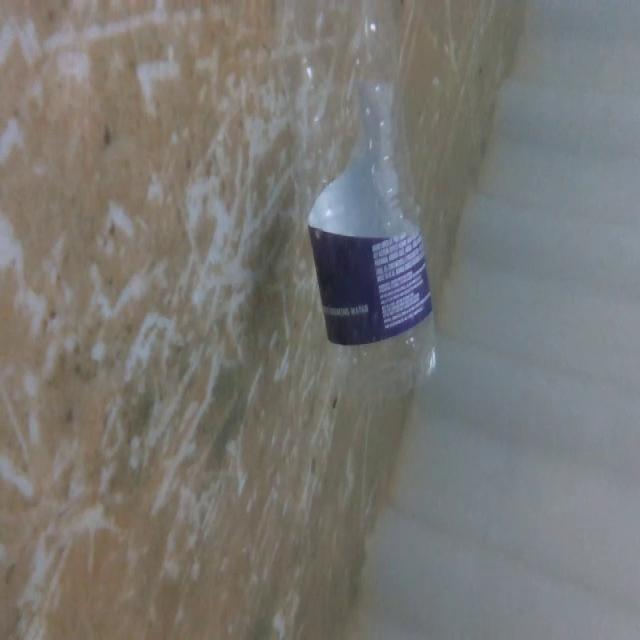plastic bottle: (282, 2, 450, 402)
